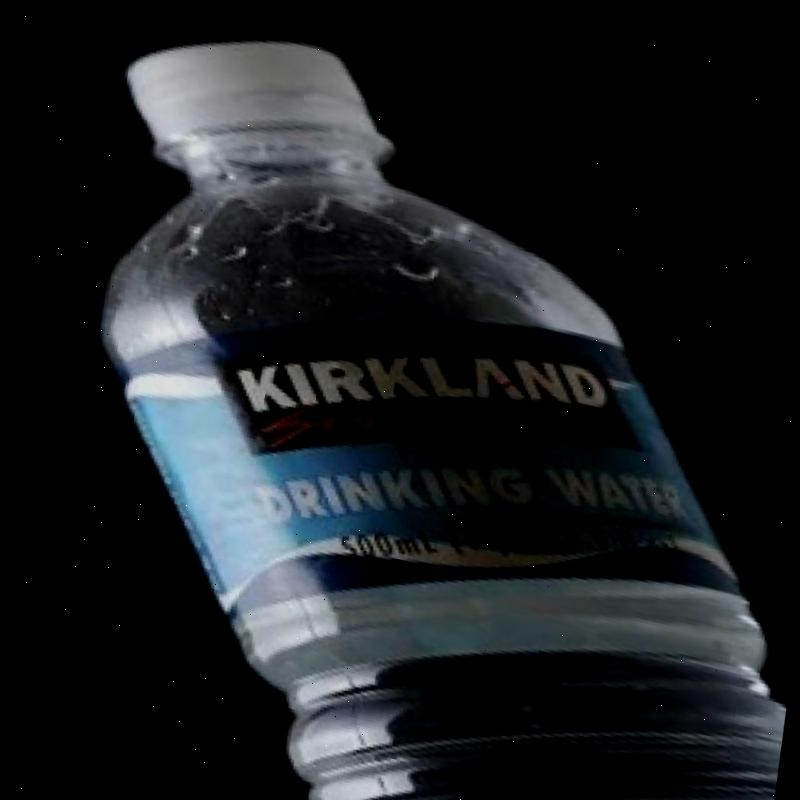botella: (16, 1, 800, 800)
